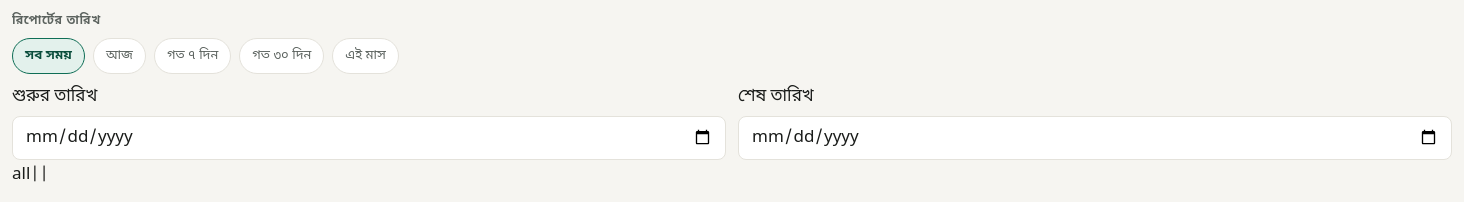
Test: DateRangeFilter › fills both date fields when a preset is chosen
Click the button "গত ৭ দিন": click(193, 56) [154,38,231,74]
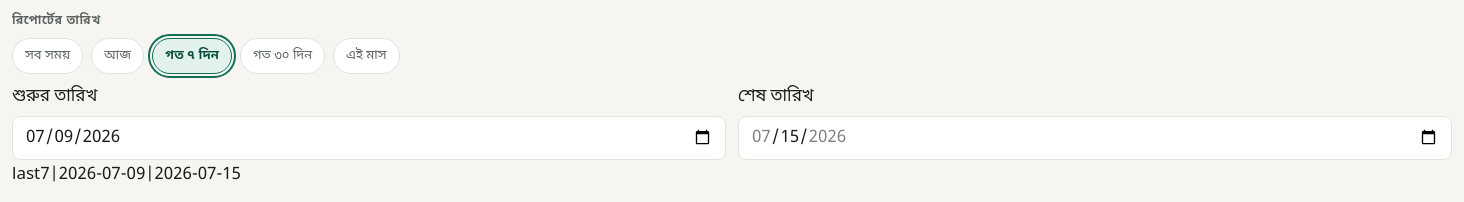
Result: the text with test id "state" reads "last7|2026-07-09|2026-07-15" at [12,163,241,186]
Result: the date field labelled "শুরুর তারিখ" holds "2026-07-09" at [12,116,726,160]
Result: the date field labelled "শেষ তারিখ" holds "2026-07-15" at [738,116,1452,160]
